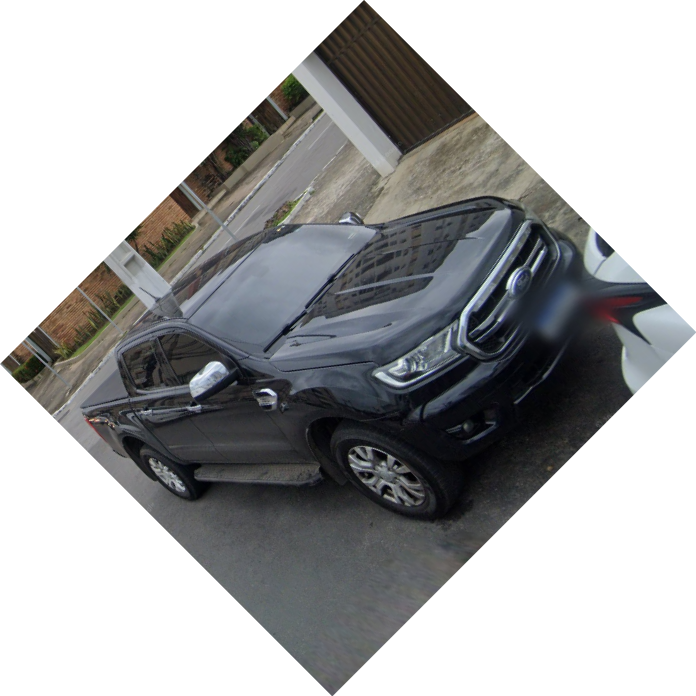car: (80, 191, 587, 519)
